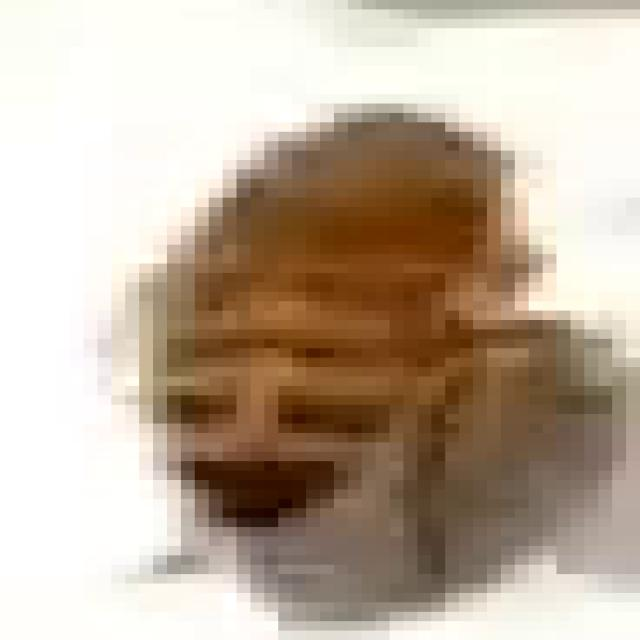honeybee: (134, 93, 561, 569)
